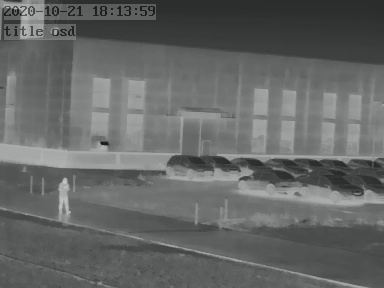person: (57, 175, 70, 216)
vehicle: (299, 171, 363, 201), (240, 169, 304, 193), (164, 153, 211, 178), (350, 172, 384, 200), (204, 153, 242, 177), (262, 155, 301, 171), (232, 155, 270, 171), (347, 156, 377, 170), (296, 156, 324, 169), (318, 157, 346, 169)
